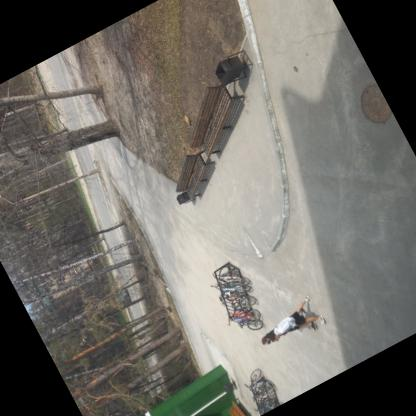Human Body: (260, 292, 328, 350), (254, 301, 320, 356)
